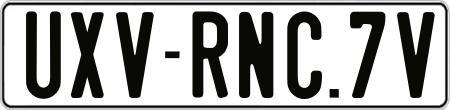7: (348, 10, 387, 102)
C: (285, 11, 326, 99)
N: (239, 10, 277, 101)
R: (190, 11, 227, 99)
U: (25, 10, 63, 102)
V: (114, 11, 158, 103), (397, 11, 434, 99)
X: (69, 10, 102, 98)
